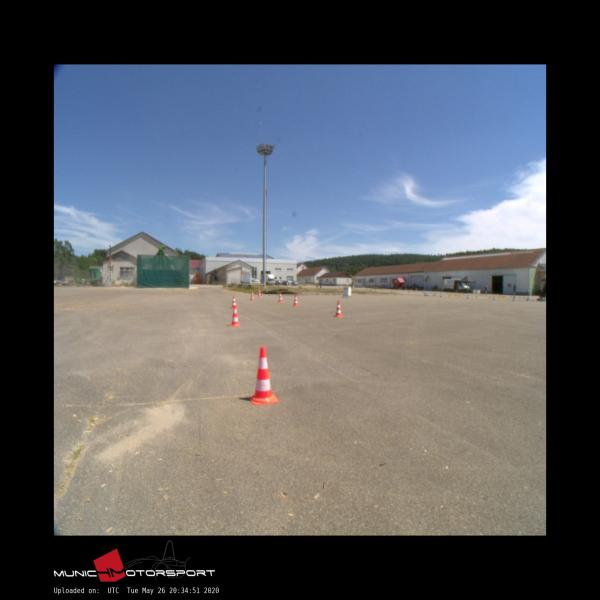large_orange_cone: (250, 346, 278, 404), (230, 306, 240, 326), (334, 301, 342, 316), (231, 295, 237, 308), (293, 294, 299, 306), (278, 292, 283, 302), (250, 291, 255, 300), (258, 289, 262, 297)
